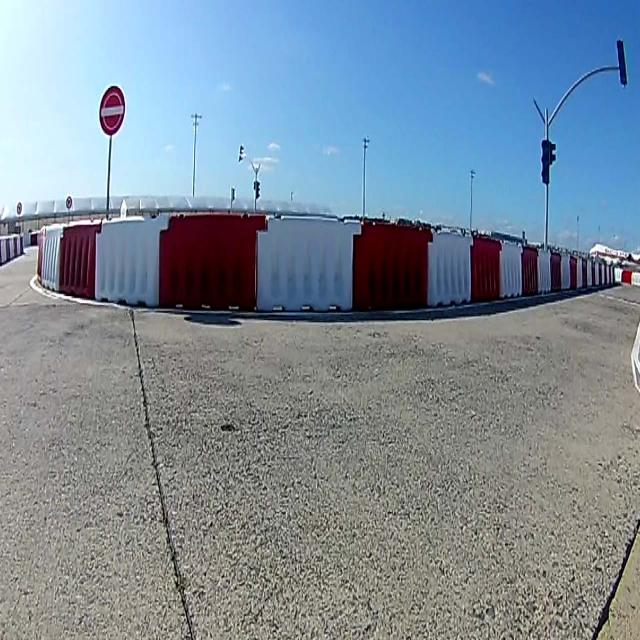girisyok: (99, 86, 125, 134)
